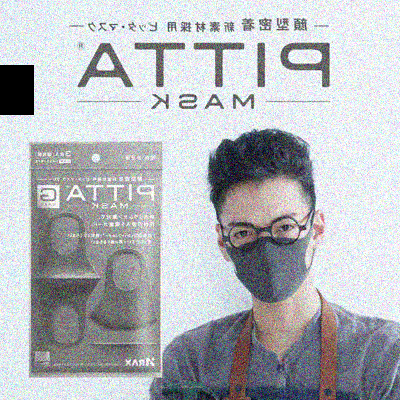with_mask: (220, 210, 311, 303)
